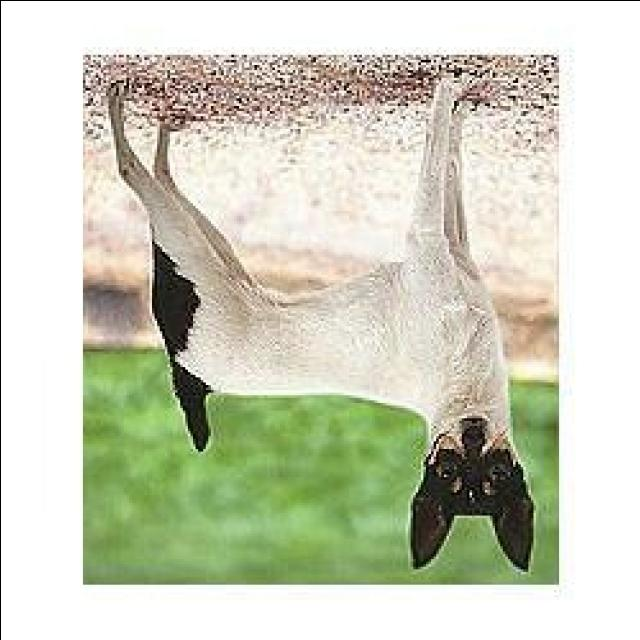toy_terrier: (100, 72, 532, 571)
